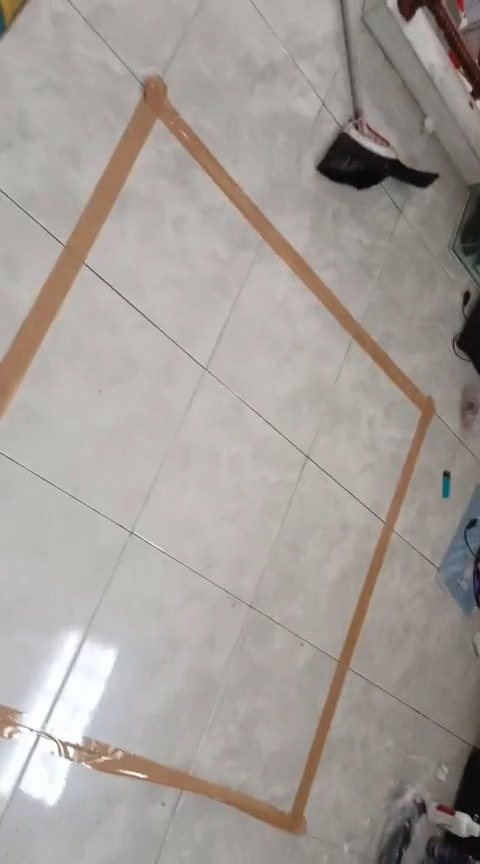floor marking: (0, 76, 434, 832)
